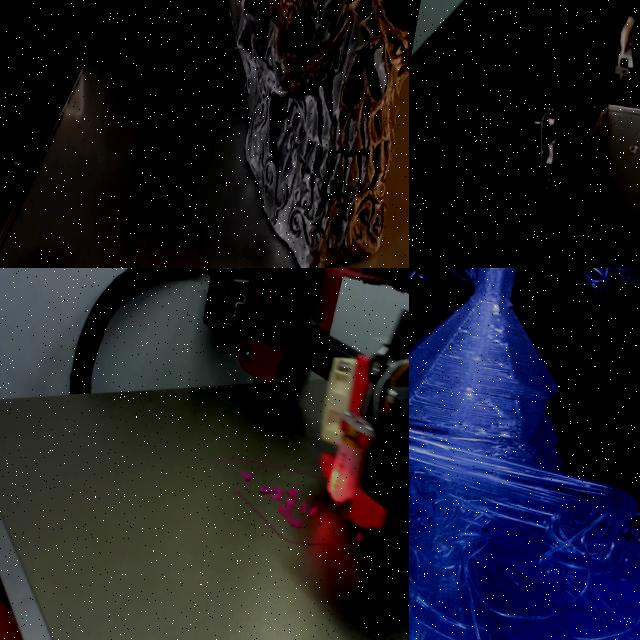spaghetti: (409, 385, 640, 640), (236, 488, 361, 548), (527, 268, 640, 312), (277, 488, 301, 528), (259, 485, 283, 501), (299, 502, 317, 516), (240, 472, 251, 480)
